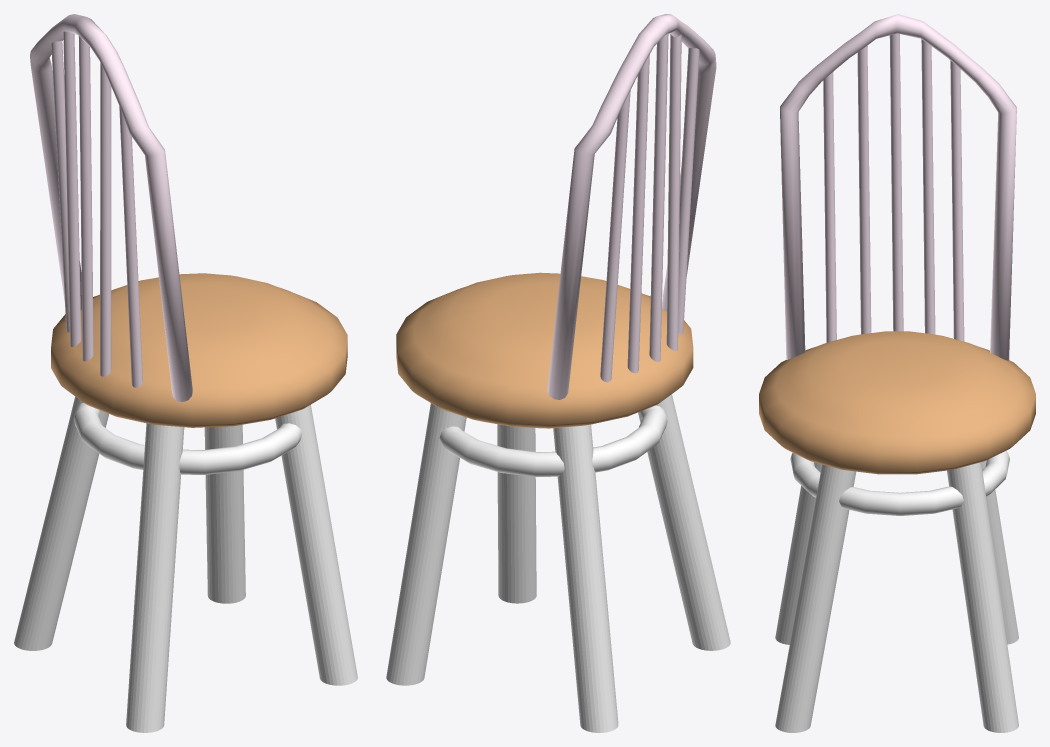
Rendered from KrzesłoKuchenne.fbx.
3 views of the same model, side by side, from view 1: azimuth 30°, elevation 25°; view 2: azimuth 150°, elevation 25°; view 3: azimuth 270°, elevation 25° (orthographic). The views are drawn at different scales.
Visible parts, largest first — view 1: Cylinder, Cylinder.001, Cylinder.002, Torus; view 2: Cylinder, Cylinder.001, Cylinder.002, Torus; view 3: Cylinder.001, Cylinder.002, Cylinder, Torus.
Boxes of the visible parts, x1,y1,x2,y2 form: Cylinder: [14, 396, 357, 732]; Cylinder.001: [51, 273, 347, 427]; Cylinder.002: [30, 14, 192, 401]; Torus: [73, 403, 301, 474]; Cylinder: [386, 394, 730, 732]; Cylinder.001: [396, 272, 693, 428]; Cylinder.002: [547, 14, 716, 399]; Torus: [439, 405, 667, 476]; Cylinder.001: [759, 331, 1035, 474]; Cylinder.002: [780, 14, 1016, 360]; Cylinder: [775, 460, 1018, 732]; Torus: [790, 450, 1009, 515].
Bounding box in the file's own units: 261 × 652 × 264.
